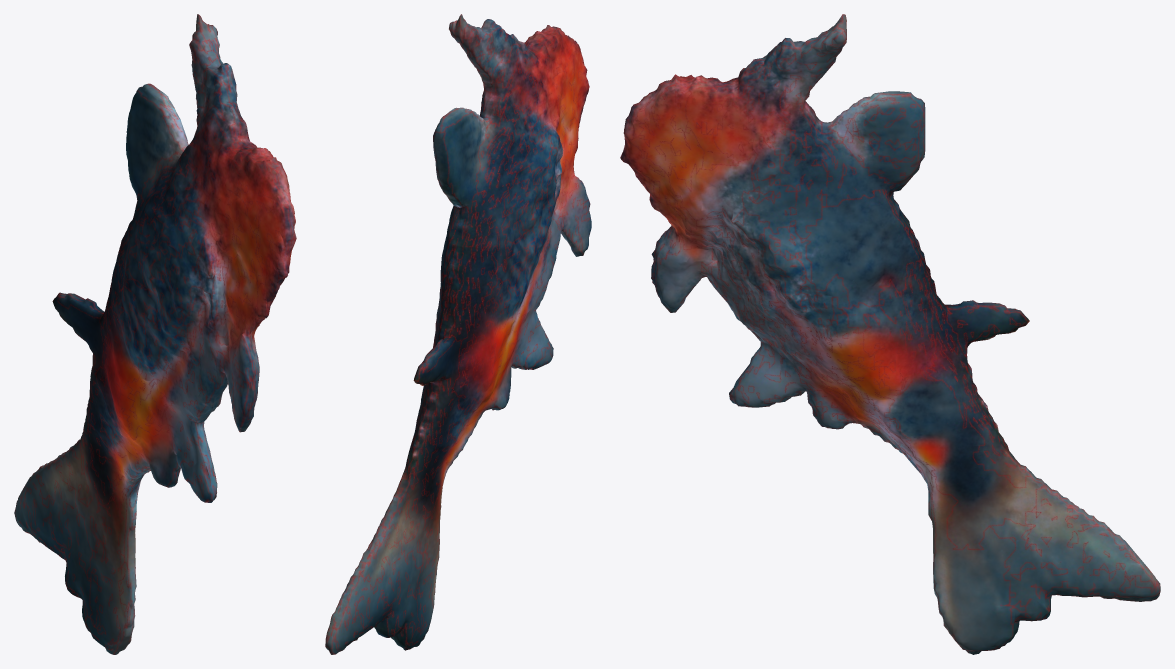
Rendered from fish_0.glb.
The picture shows the model from 3 angles, left to right: view 1: azimuth 30°, elevation 25°; view 2: azimuth 150°, elevation 25°; view 3: azimuth 270°, elevation 25°; orthographic projection. The views are drawn at different scales.
Visible parts, largest first — view 1: model; view 2: model; view 3: model.
Part boxes in pixels (box(x1,y1,x2,y2)): model: box(14, 14, 296, 654); model: box(325, 14, 591, 654); model: box(620, 14, 1160, 654).
Bounding box in the file's own units: 0.1697 × 1.32 × 1.
1 material, 1 textured.
